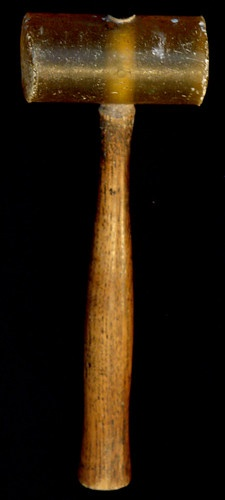hammer: (19, 8, 212, 493)
